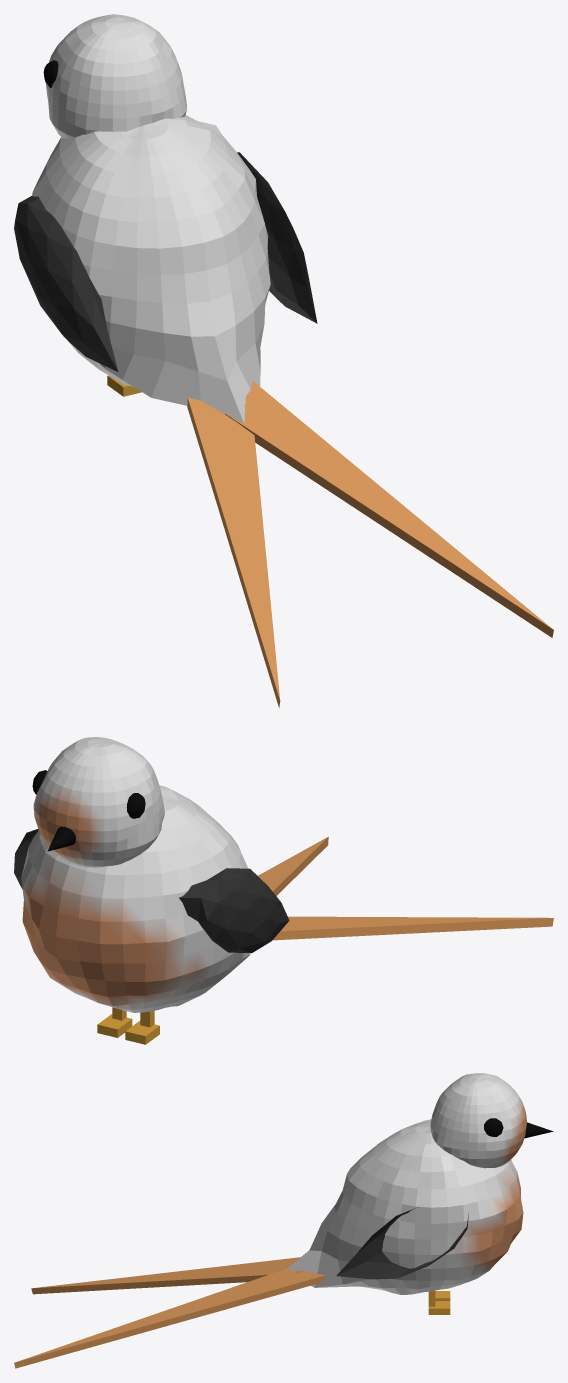
File: scissortail.fbx
3 views of the same model, one above another, from view 1: azimuth 30°, elevation 25°; view 2: azimuth 150°, elevation 25°; view 3: azimuth 270°, elevation 25° (orthographic). The views are drawn at different scales.
Parts seen in each view (by area): view 1: Sphere.001, Cube, Icosphere; view 2: Sphere.001, Icosphere, Cube, Cube.004, Cone; view 3: Sphere.001, Cube, Icosphere, Cube.004, Cone.
Boxes of the visible parts, left/top/right/bottom form: Sphere.001: left=32, top=14, right=270, bottom=423; Cube: left=187, top=381, right=553, bottom=707; Icosphere: left=14, top=152, right=317, bottom=372; Sphere.001: left=21, top=737, right=250, bottom=1012; Icosphere: left=14, top=829, right=289, bottom=953; Cube: left=258, top=836, right=553, bottom=940; Cube.004: left=97, top=1007, right=159, bottom=1044; Cone: left=32, top=770, right=145, bottom=851; Sphere.001: left=285, top=1073, right=526, bottom=1294; Cube: left=14, top=1257, right=325, bottom=1368; Icosphere: left=336, top=1208, right=468, bottom=1279; Cube.004: left=428, top=1290, right=450, bottom=1314; Cone: left=484, top=1118, right=553, bottom=1138.
Size of the model in its own units: 233 by 317 by 571.
